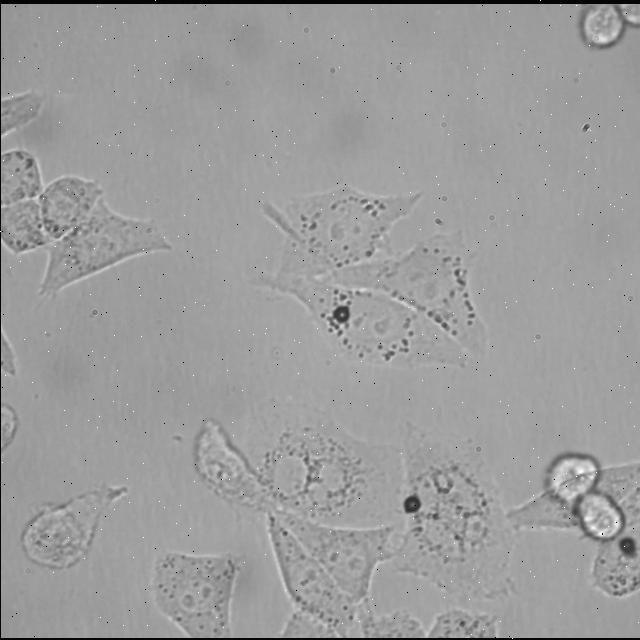microbeads: (399, 490, 423, 518), (616, 532, 638, 560), (334, 303, 351, 325)
